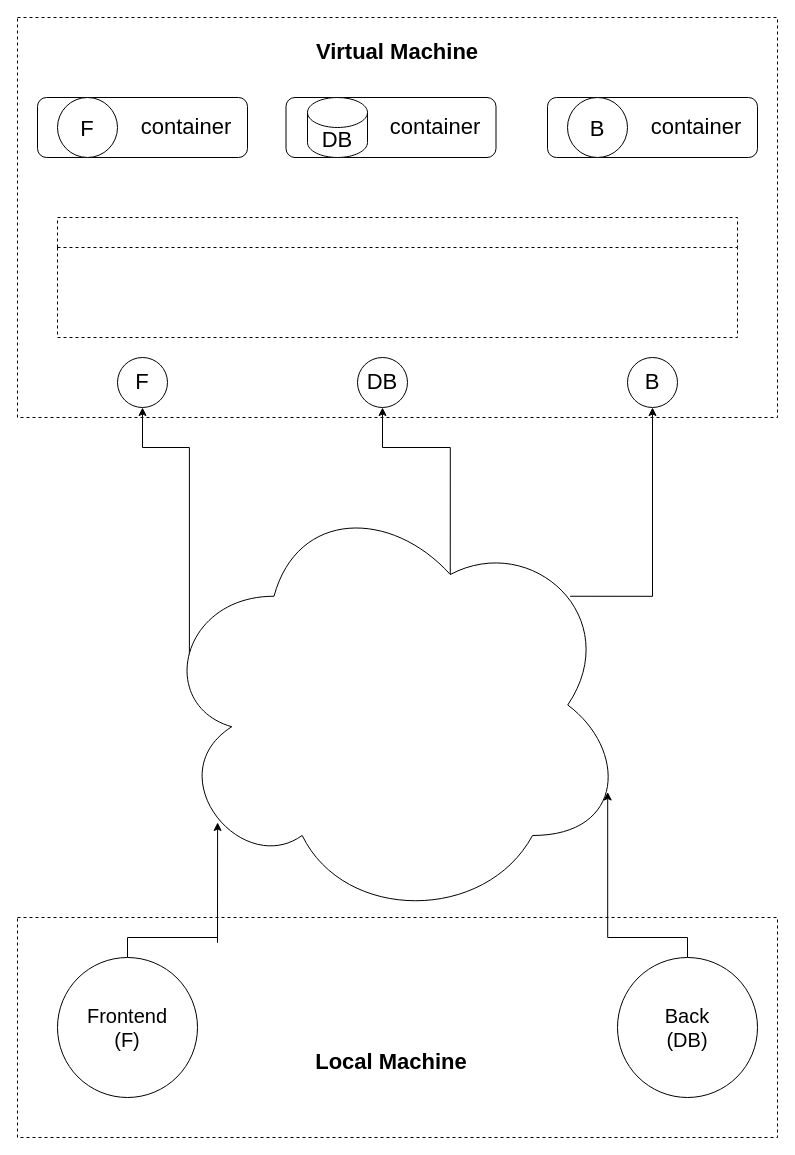
The diagram is 795 pixels wide and 1155 high, and some of its shapes have lost their labels. The shapes that lost their labels are listed below. From the top down, each one's centre as x and y in pixels, then its label:
At (397,277): "docker-compose.yml".
At (391,704): "DockerHub".
